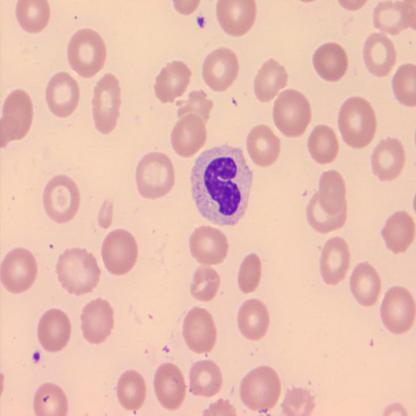Band Neutrophil: (188, 141, 256, 228)
